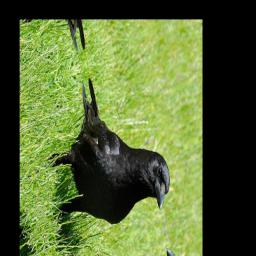Crow: (36, 46, 176, 256)
